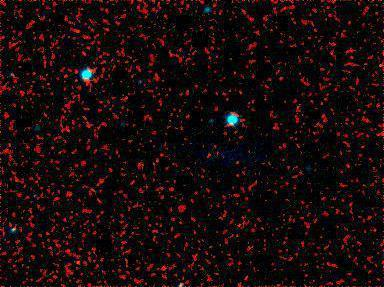star: (62, 249, 92, 279)
